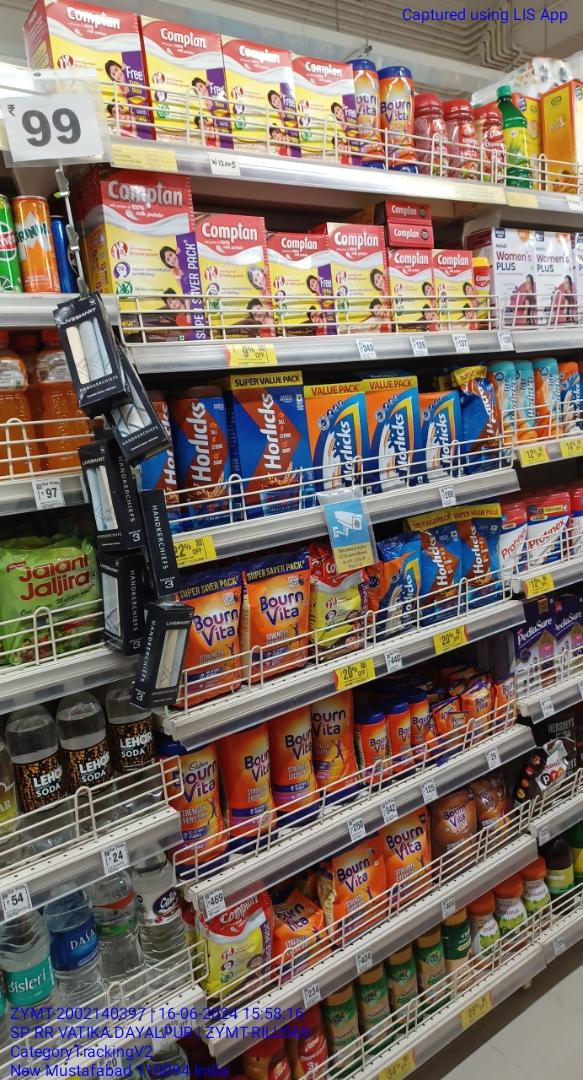BOURN_VITA_75_G_POUCH: (465, 685, 490, 743), (493, 673, 516, 730), (441, 712, 462, 756)
HORLICKS_LITE_REGULAR_MALT_500_GM_JAR: (534, 358, 561, 437), (493, 361, 515, 443), (516, 359, 534, 442)
PROTINEX_CHOCOLATE_400_G_JAR: (527, 488, 573, 562)
